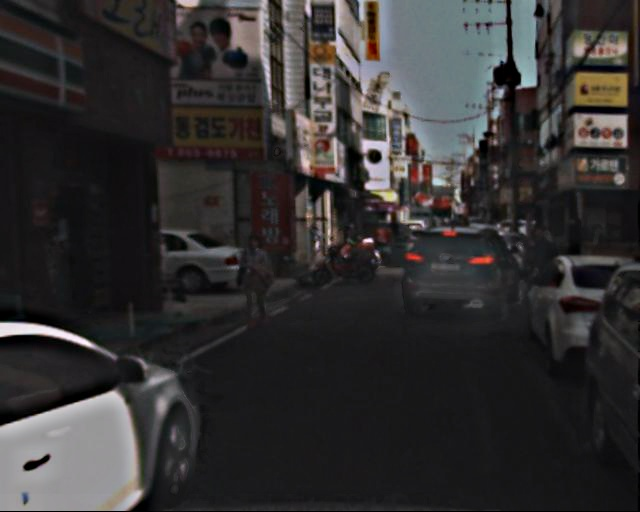person: (235, 237, 275, 334), (525, 226, 560, 311)
